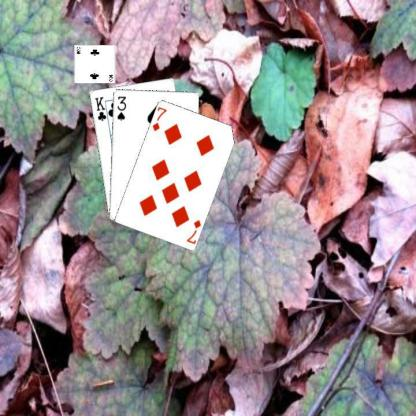3S: (115, 94, 127, 121)
7D: (150, 105, 168, 132), (184, 217, 202, 244)
KC: (92, 94, 110, 124)
